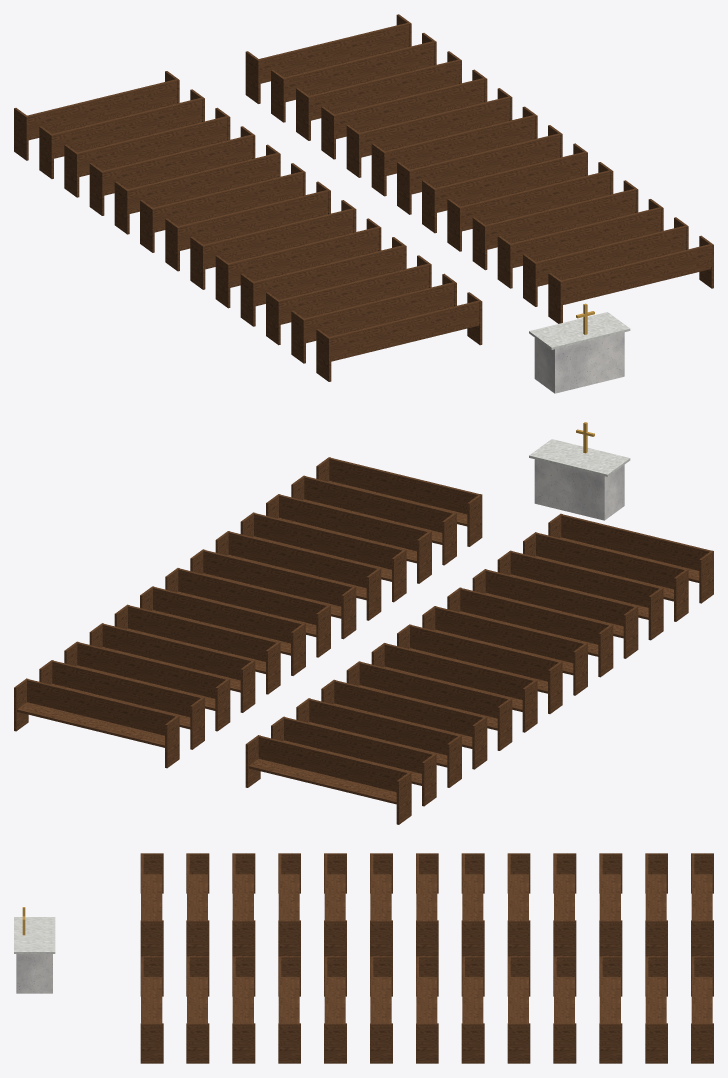
Rendered from i_stone_chapel.gltf.
The picture shows the model from 3 angles, top to bottom: view 1: azimuth 30°, elevation 25°; view 2: azimuth 150°, elevation 25°; view 3: azimuth 270°, elevation 25°; orthographic projection. The views are drawn at different scales.
Parts seen in each view (by area): view 1: I_stone_chapel; view 2: I_stone_chapel; view 3: I_stone_chapel.
Part boxes in pixels (left/top/right/bottom): I_stone_chapel: left=14, top=14, right=713, bottom=393; I_stone_chapel: left=14, top=422, right=713, bottom=824; I_stone_chapel: left=14, top=853, right=713, bottom=1063.
Size of the model in its own units: 8.82 by 1.7 by 15.26.
4 materials, 3 textured.
